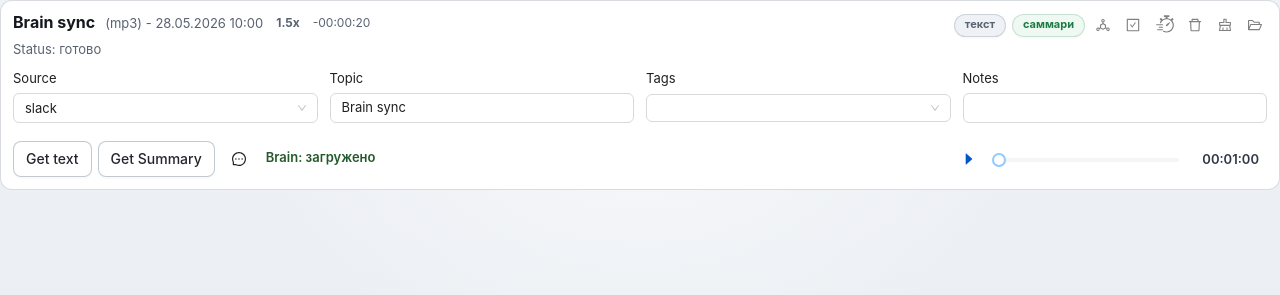
Test: SessionCard speed dropdown › renders speed choices with accessible selected and availability state
The width and height of the screenshot is (1280, 295).
Click the button named "Выбрать скорость транскрибации" at (1165, 25), box [1153,13,1177,37]
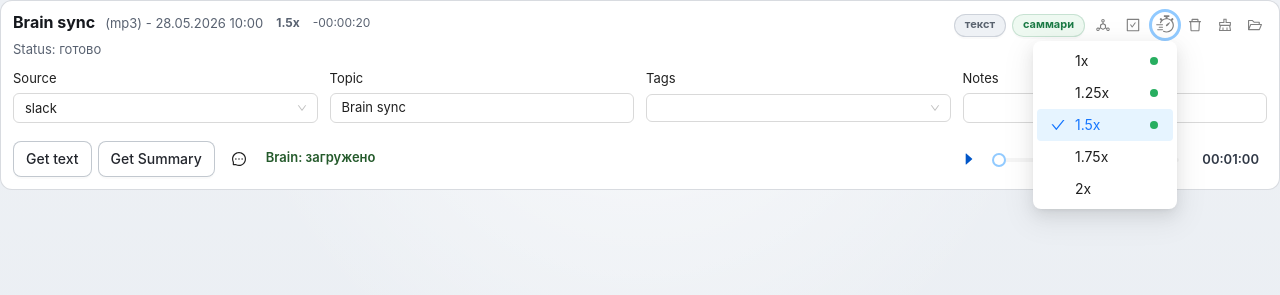
Result: the menu item "1x" is shown at [1037,45,1173,77]
Result: the menu item named "1.5x selected recording available" is shown at [1037,109,1173,141]
Result: the menu item named "1.25x recording available" is shown at [1037,77,1173,109]
